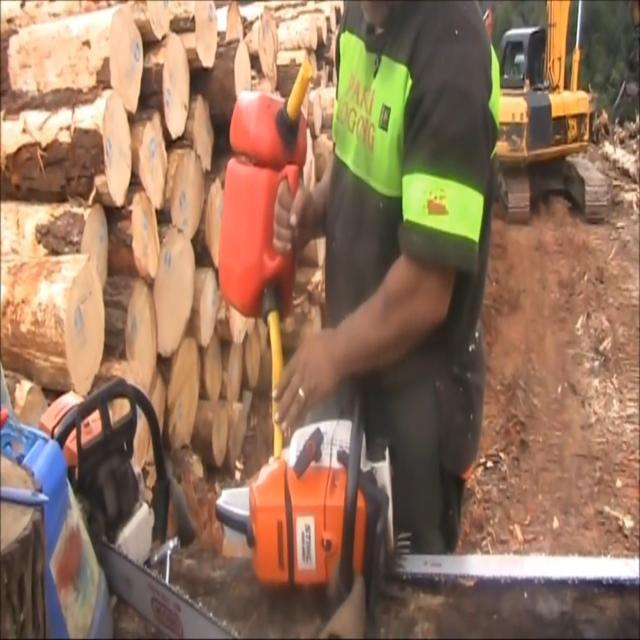Chainsaw: (196, 408, 640, 619), (0, 355, 246, 640)
